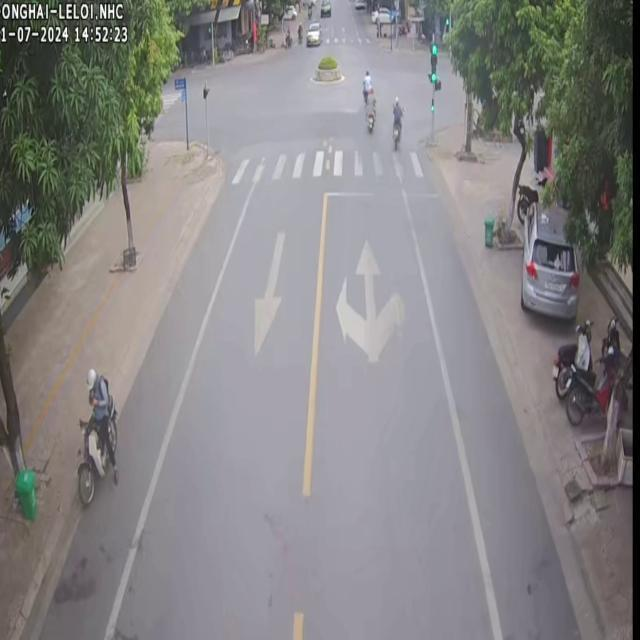car: (519, 194, 578, 318)
green_light: (427, 40, 437, 85)
motobike: (78, 365, 111, 501), (389, 91, 401, 158), (363, 82, 376, 142)
stop_line: (323, 189, 436, 196)
